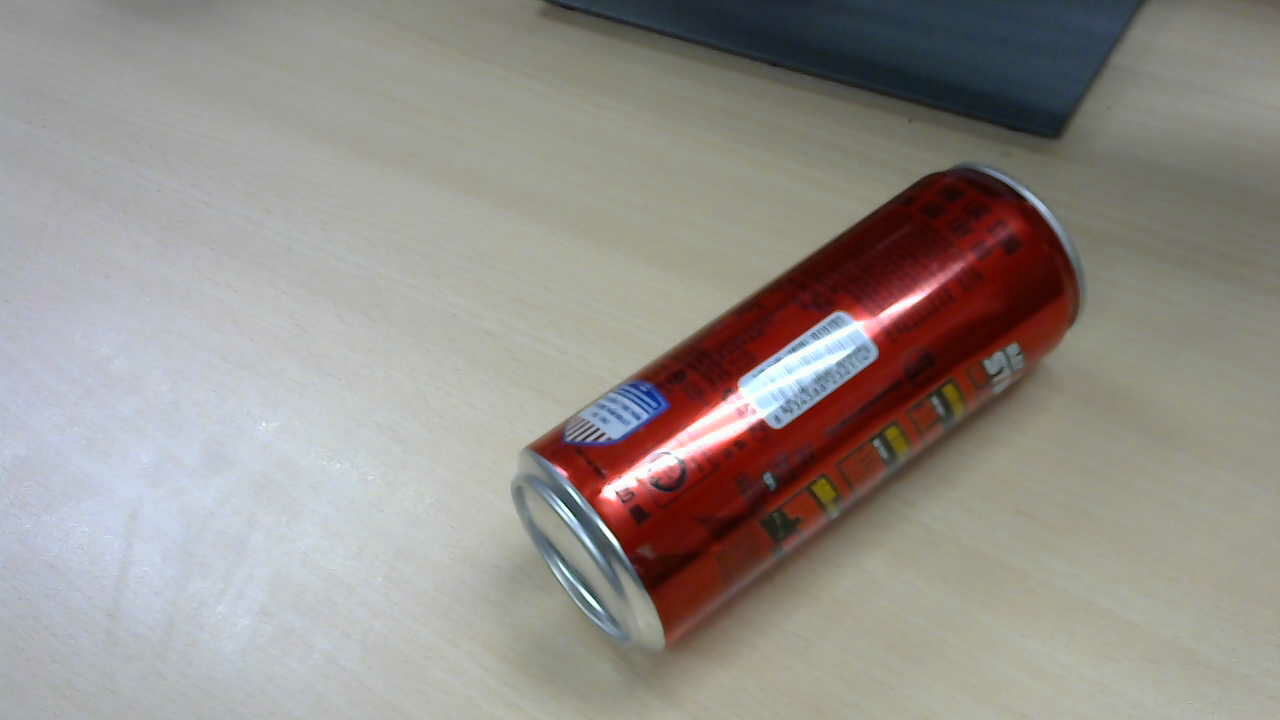Sting: (517, 167, 1086, 652)
